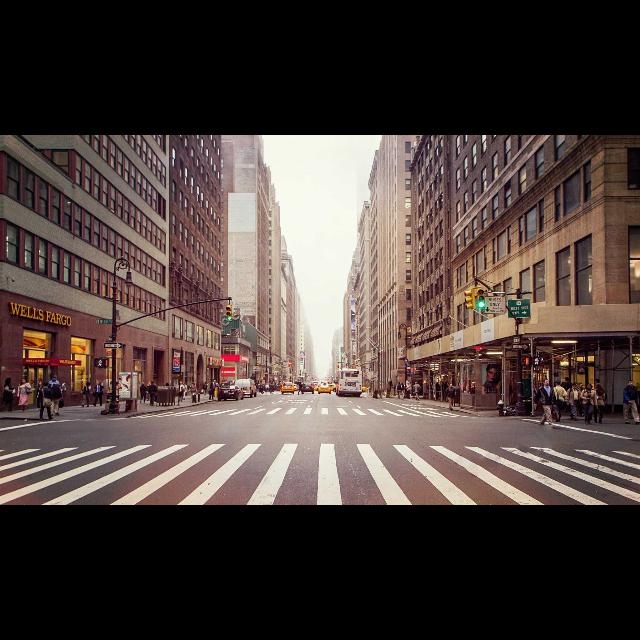head: (628, 380, 634, 388), (543, 379, 549, 386), (572, 384, 578, 390), (556, 381, 562, 387), (44, 382, 50, 388), (596, 385, 600, 391), (588, 384, 592, 390), (574, 383, 578, 389), (564, 378, 570, 382), (52, 376, 58, 380), (52, 380, 58, 384), (22, 378, 26, 384), (8, 378, 12, 384), (595, 380, 599, 384), (449, 384, 453, 388), (98, 382, 102, 386), (39, 382, 43, 386), (180, 382, 182, 386), (152, 382, 156, 384), (142, 384, 146, 386), (85, 382, 88, 384), (437, 383, 439, 385), (415, 383, 417, 385), (408, 383, 410, 385), (399, 383, 401, 385), (401, 383, 403, 385), (300, 382, 302, 384), (214, 381, 216, 383), (215, 381, 217, 383), (205, 383, 207, 385), (193, 384, 195, 386), (184, 384, 186, 386), (272, 383, 272, 385), (268, 384, 268, 386)
person: (533, 379, 557, 428), (580, 384, 598, 426), (47, 378, 65, 418), (38, 382, 56, 422), (552, 381, 568, 424), (16, 378, 34, 414), (47, 374, 63, 414), (566, 384, 582, 422), (0, 376, 16, 414), (592, 384, 606, 424), (571, 382, 585, 418), (594, 378, 606, 412), (444, 383, 458, 411), (92, 382, 105, 408), (562, 377, 574, 405), (80, 380, 92, 408), (36, 380, 46, 412), (148, 380, 158, 408), (208, 380, 220, 400), (413, 382, 423, 402), (188, 382, 198, 400), (140, 382, 148, 404), (178, 381, 185, 403), (434, 382, 442, 401), (212, 381, 220, 399), (200, 382, 208, 396), (406, 382, 412, 400), (182, 383, 188, 401), (396, 382, 402, 398), (400, 382, 406, 398), (298, 382, 304, 396), (268, 383, 274, 395), (266, 383, 270, 393)
